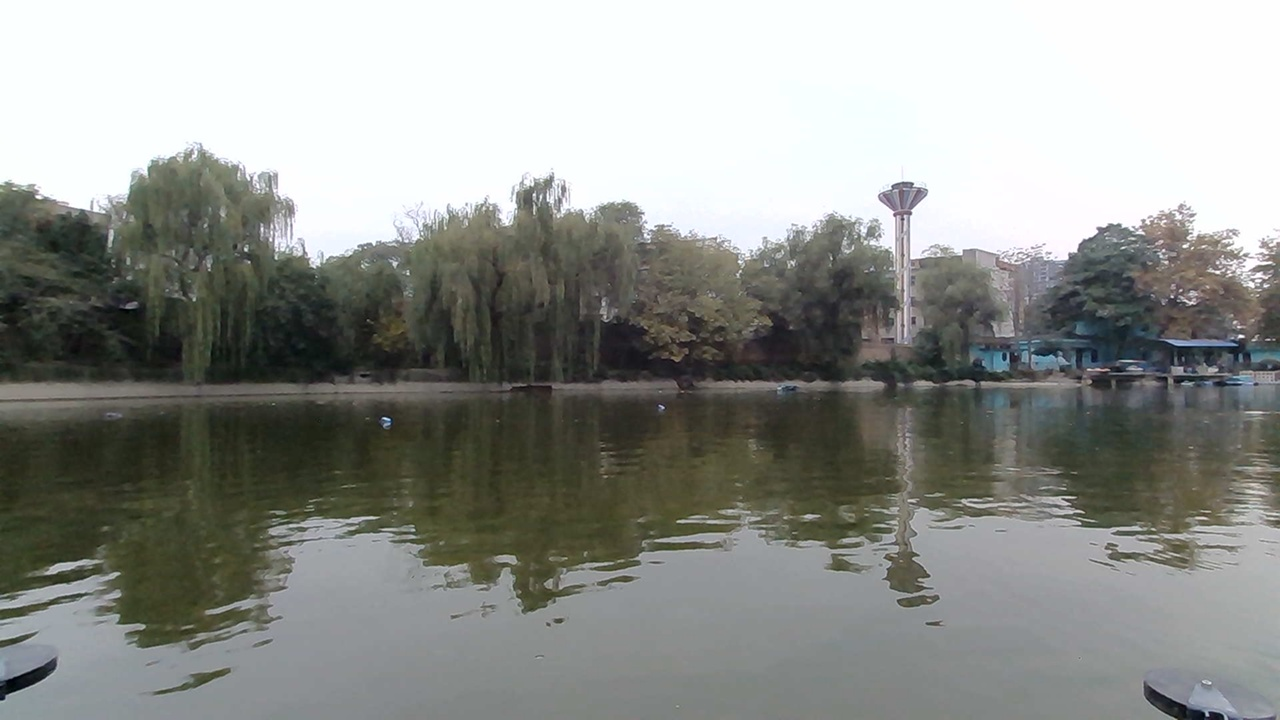bottle: (96, 403, 135, 430), (370, 413, 401, 431)
